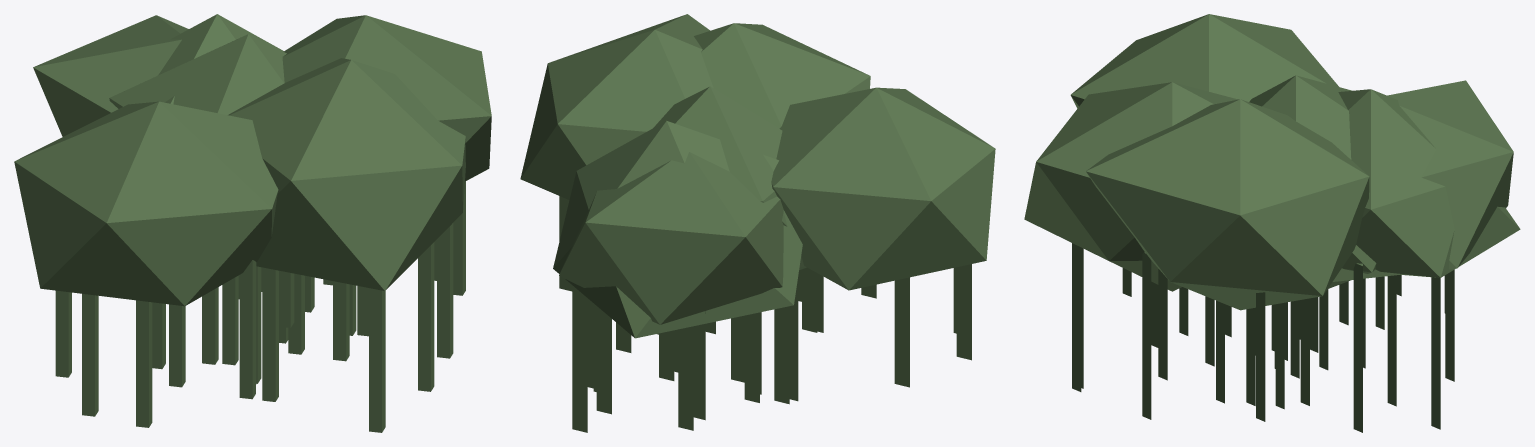
File: tree_willow_m_crown.fbx
3 renders of one model, left to right at view 1: azimuth 30°, elevation 25°; view 2: azimuth 150°, elevation 25°; view 3: azimuth 270°, elevation 25°, orthographic. The views are drawn at different scales.
Visible parts, largest first — view 1: tree_willow_m_crown; view 2: tree_willow_m_crown; view 3: tree_willow_m_crown.
Part boxes in pixels (bbox=[...]): tree_willow_m_crown: bbox=[14, 14, 491, 432]; tree_willow_m_crown: bbox=[520, 14, 995, 432]; tree_willow_m_crown: bbox=[1024, 14, 1520, 432].
Size of the model in its own units: 1940 by 1423 by 1896.
